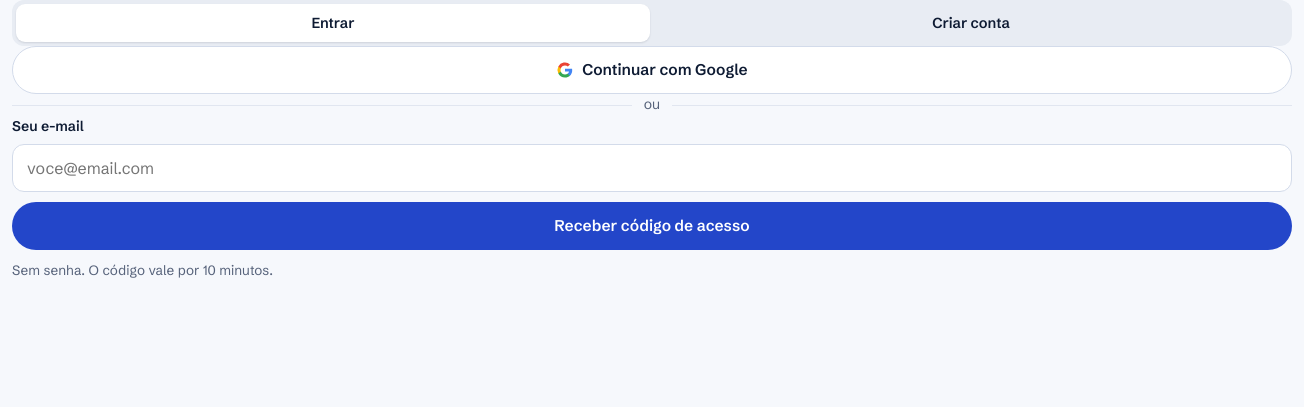
Scenario: Login por código › entrar: só o e-mail, sem data de nascimento
Check: the field labelled "Seu e-mail" is shown, box top-left (12, 144), bottom-right (1292, 192)
Check: the field labelled "Data de nascimento" is not shown
Click the tab "Criar conta" at point(971, 23), box top-left (654, 4), bottom-right (1288, 42)
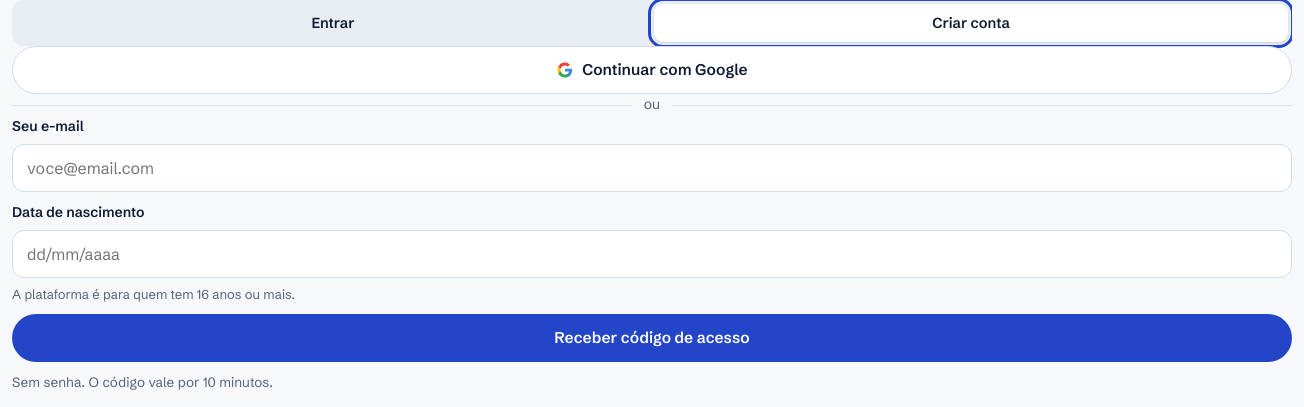
Check: the field labelled "Data de nascimento" is shown, box top-left (12, 230), bottom-right (1292, 278)
